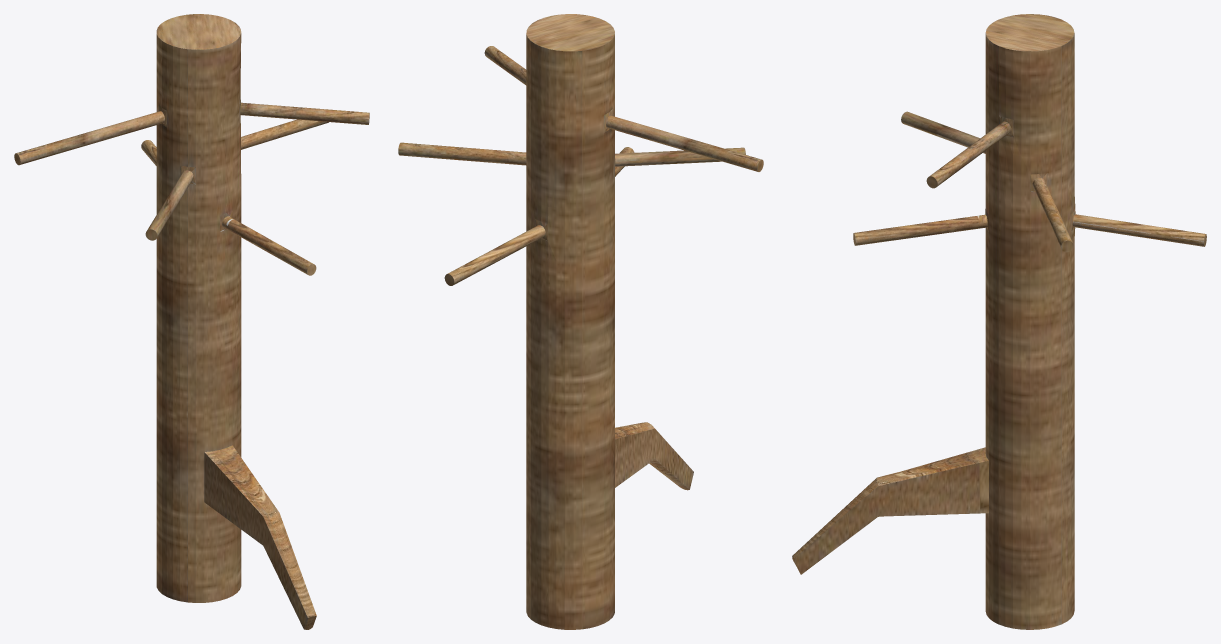
The model's file is trainingpole.obj.
3 views of the same model, side by side, from view 1: azimuth 30°, elevation 25°; view 2: azimuth 150°, elevation 25°; view 3: azimuth 270°, elevation 25° (orthographic). The views are drawn at different scales.
Visible parts, largest first — view 1: trainingpole_Cylinder.003; view 2: trainingpole_Cylinder.003; view 3: trainingpole_Cylinder.003.
Boxes of the visible parts, x1,y1,x2,y2 form: trainingpole_Cylinder.003: [14, 14, 369, 629]; trainingpole_Cylinder.003: [398, 14, 763, 629]; trainingpole_Cylinder.003: [792, 14, 1206, 629].
Size of the model in its own units: 1.13 by 1.83 by 1.19.
Materials: 1 (1 with a texture image).
